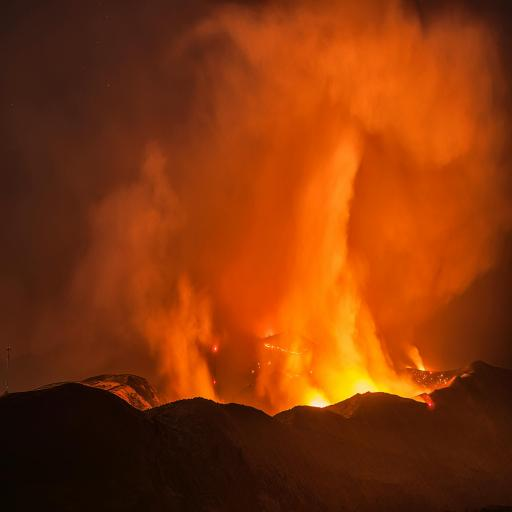wildfire: (0, 3, 512, 512)
